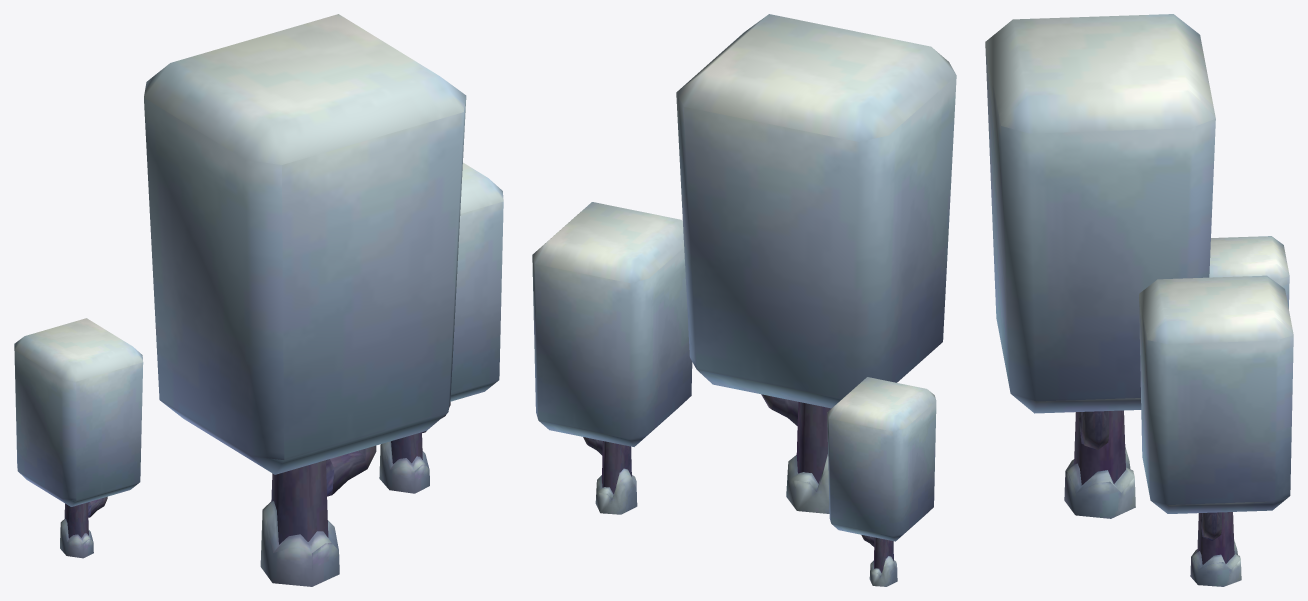
The model's file is sence2_shu1.FBX.
3 views of the same model, side by side, from view 1: azimuth 30°, elevation 25°; view 2: azimuth 150°, elevation 25°; view 3: azimuth 270°, elevation 25° (orthographic). The views are drawn at different scales.
Parts seen in each view (by area): view 1: shu1; view 2: shu1; view 3: shu1.
Part boxes in pixels (<box>): shu1: <box>14,14,503,586</box>; shu1: <box>532,14,956,586</box>; shu1: <box>985,14,1293,586</box>.
Size of the model in its own units: 58.71 by 65.11 by 40.39.
